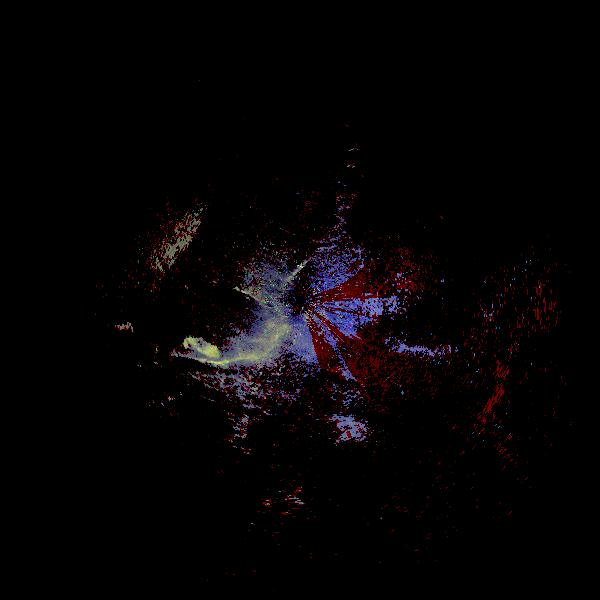roost: (128, 311, 230, 413)
